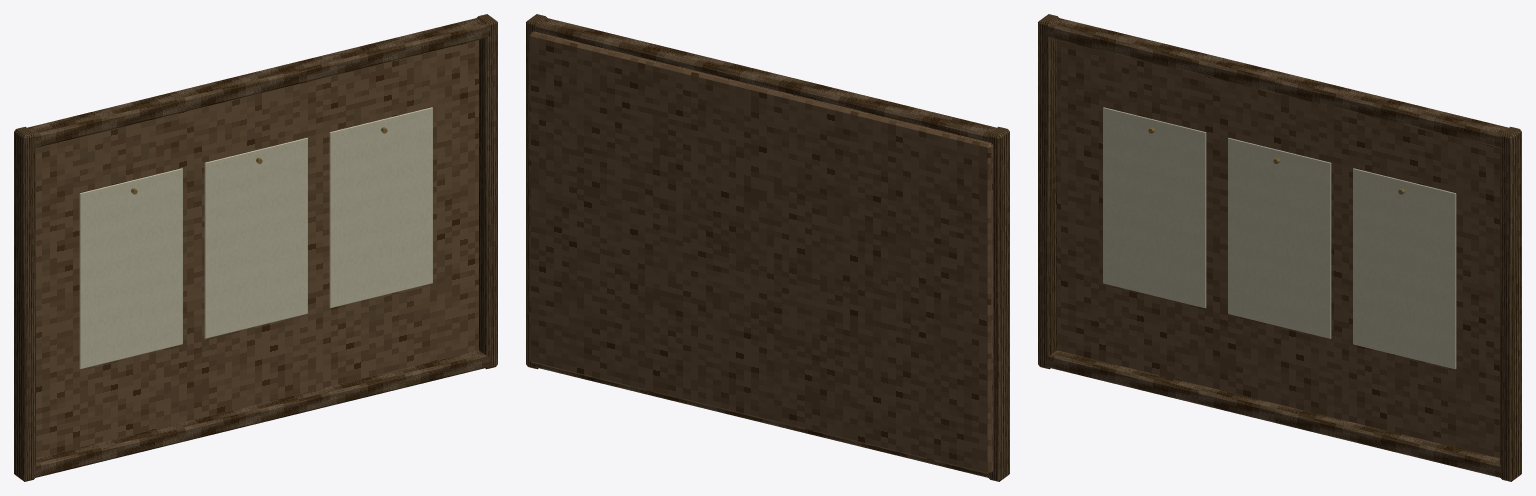
Rendered from blender_objective_board_fixed.glb.
3 renders of one model, left to right at view 1: azimuth 30°, elevation 25°; view 2: azimuth 150°, elevation 25°; view 3: azimuth 330°, elevation 25°, orthographic.
Visible parts, largest first — view 1: blender_objective_board_fixed; view 2: blender_objective_board_fixed; view 3: blender_objective_board_fixed.
Boxes of the visible parts, bbox=[...] form: blender_objective_board_fixed: bbox=[14, 14, 497, 481]; blender_objective_board_fixed: bbox=[526, 14, 1009, 481]; blender_objective_board_fixed: bbox=[1038, 14, 1521, 481].
Size of the model in its own units: 0.875 by 0.61 by 0.046.
Materials: 4 (4 with a texture image).
